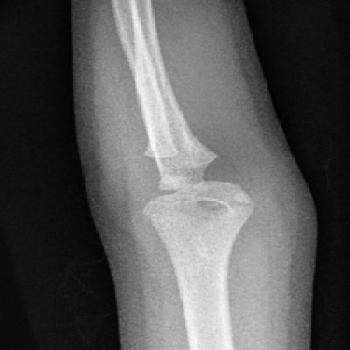Fracture: (127, 140, 192, 214)
